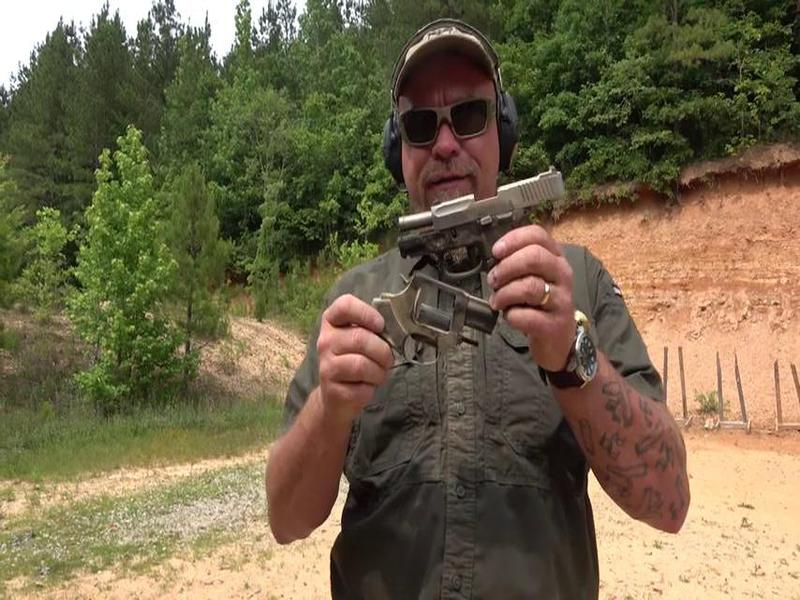Pistola: (386, 163, 574, 298)
Revolver: (302, 272, 498, 402)
